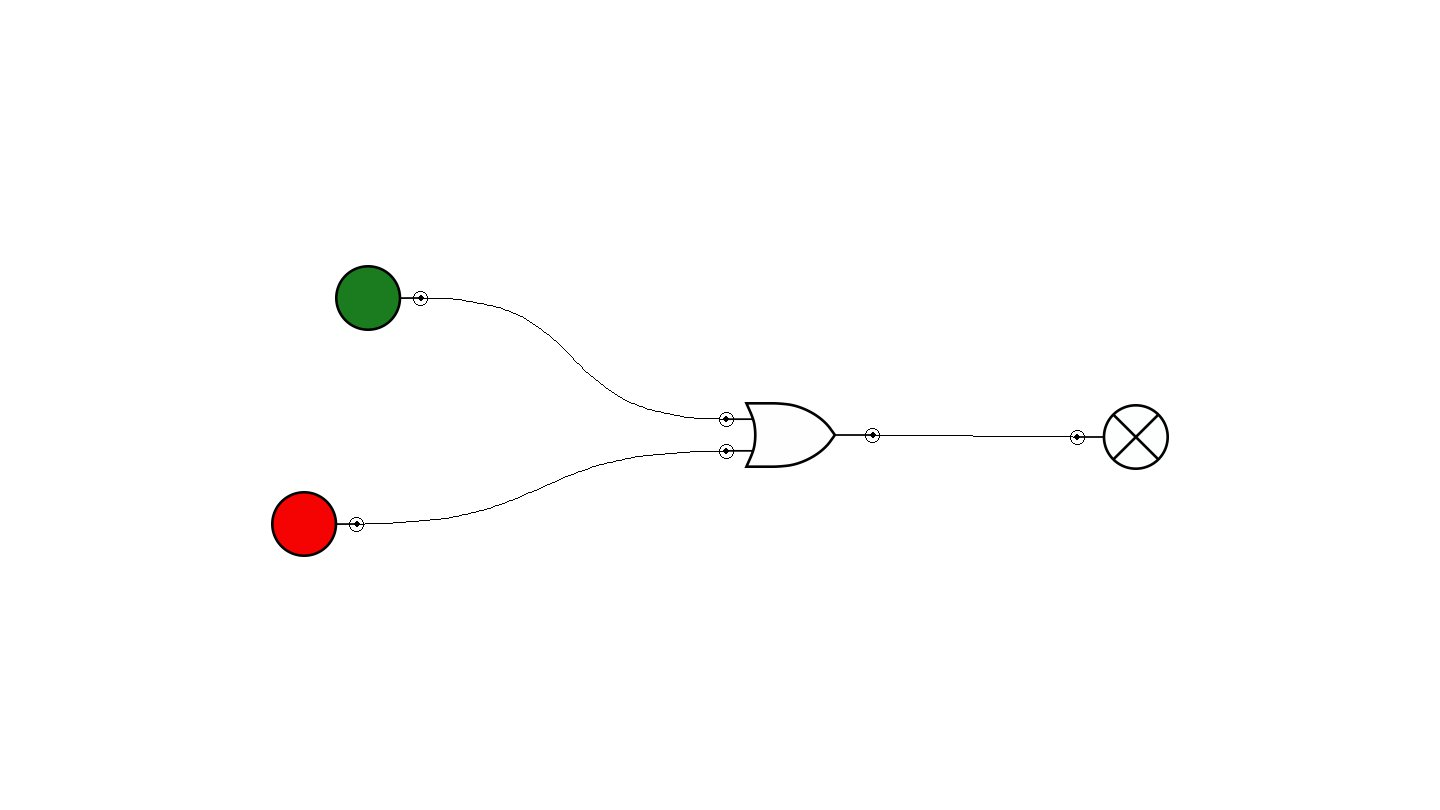bulb: (1070, 404, 1169, 470)
or: (719, 402, 880, 468)
switch_False: (271, 491, 364, 557)
switch_True: (335, 265, 428, 331)
